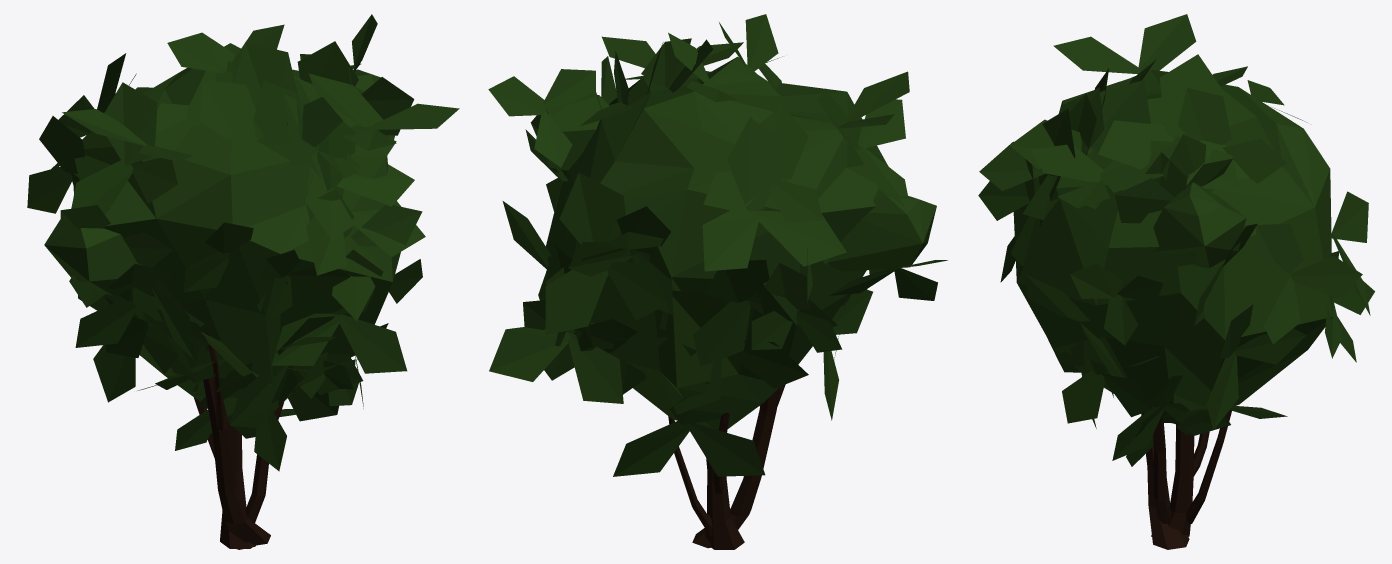
File: bush-magnolia-mature-a.fbx
3 views of the same model, side by side, from view 1: azimuth 30°, elevation 25°; view 2: azimuth 150°, elevation 25°; view 3: azimuth 270°, elevation 25° (orthographic). The views are drawn at different scales.
Parts seen in each view (by area): view 1: bush-magnolia-mature-a; view 2: bush-magnolia-mature-a; view 3: bush-magnolia-mature-a.
Boxes of the visible parts, bbox=[...] form: bush-magnolia-mature-a: bbox=[27, 14, 459, 549]; bush-magnolia-mature-a: bbox=[488, 14, 947, 549]; bush-magnolia-mature-a: bbox=[978, 14, 1374, 549].
Bounding box in the file's own units: 1791 × 2114 × 1591.
